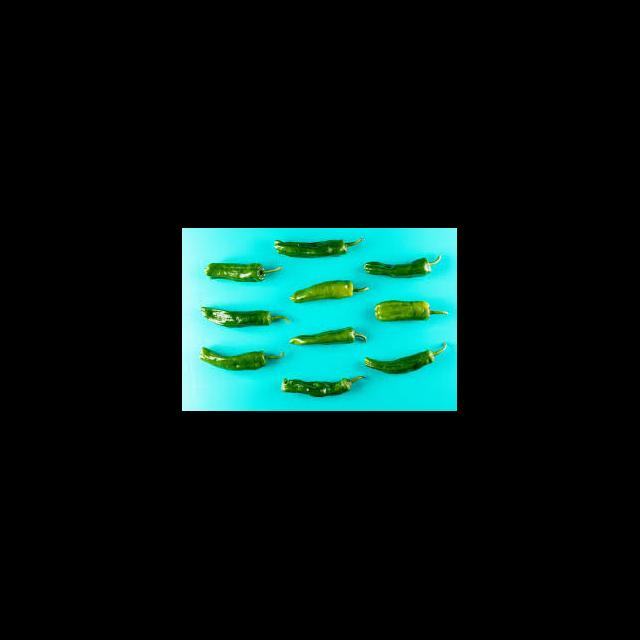chili_pepper: (201, 306, 276, 328), (201, 350, 268, 374), (276, 239, 348, 259), (290, 283, 360, 303), (375, 301, 433, 324), (282, 380, 356, 398), (364, 261, 432, 280), (207, 263, 269, 282), (366, 359, 435, 375), (294, 330, 354, 344)
